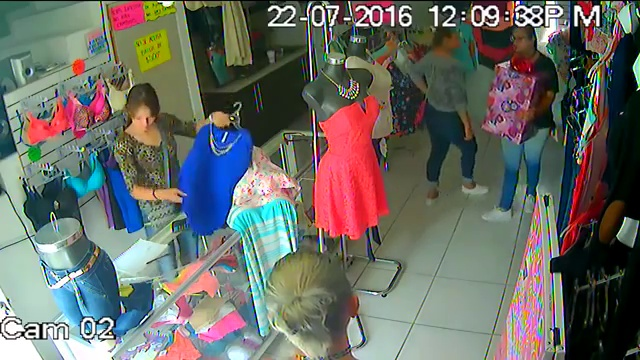face: (132, 105, 156, 132), (511, 28, 534, 53), (443, 34, 458, 49)
